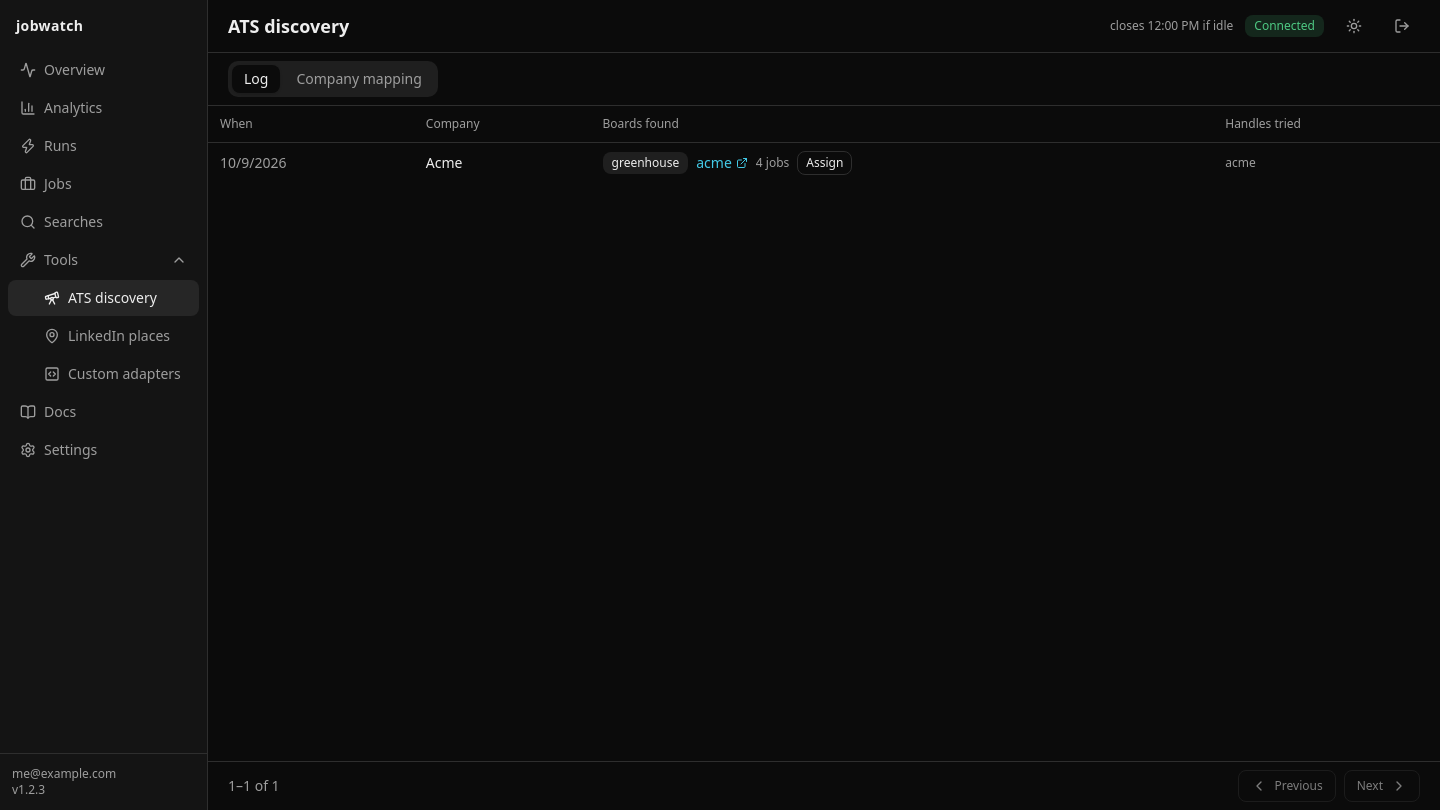
Test case: ATS discovery page › assigns the board of a lookup, and says so
Click the button with aria-label "Assign greenhouse acme to Acme" at (825, 162), box [797,150,852,174]
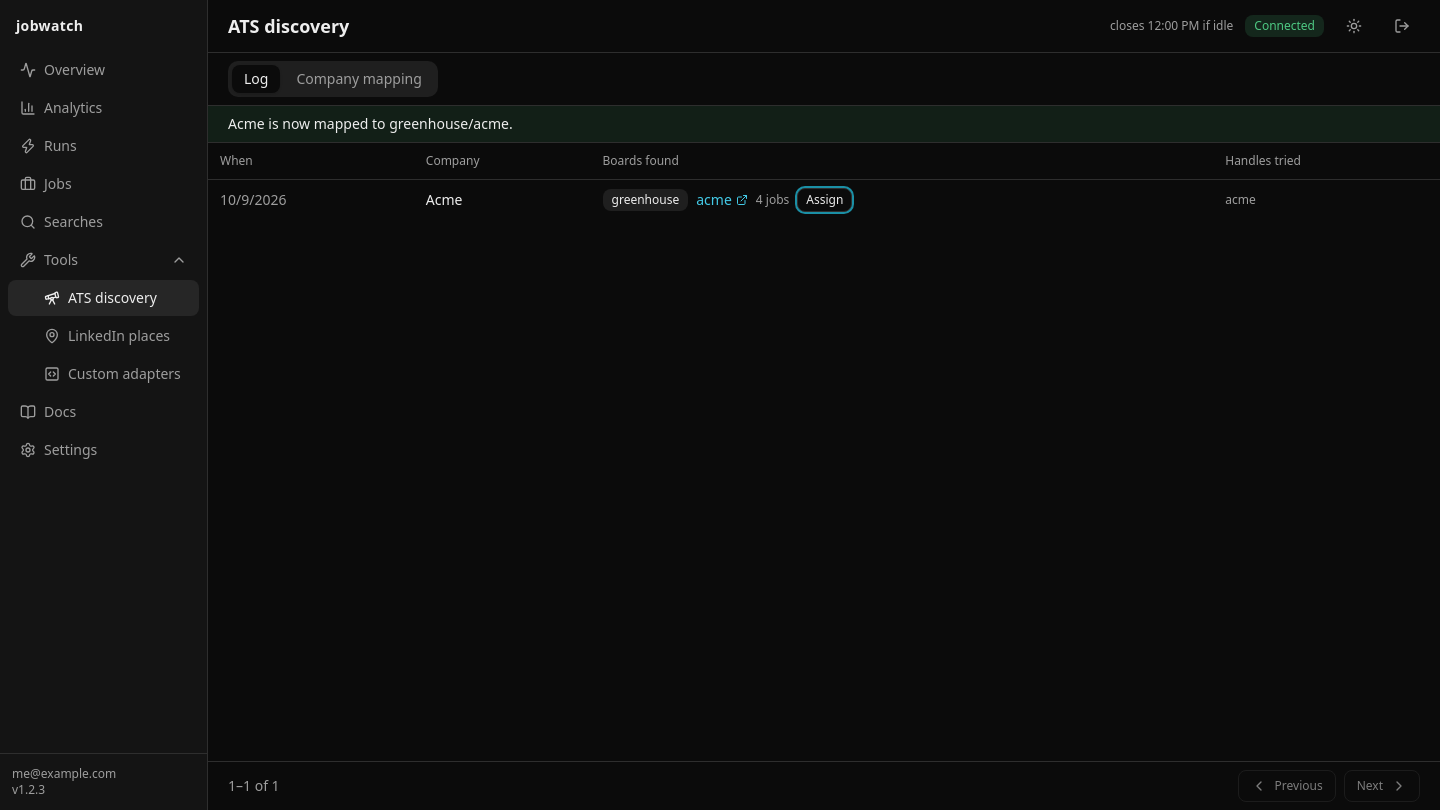
Expected: the message reads "Acme is now mapped to greenhouse/acme.", [228,114,513,133]
